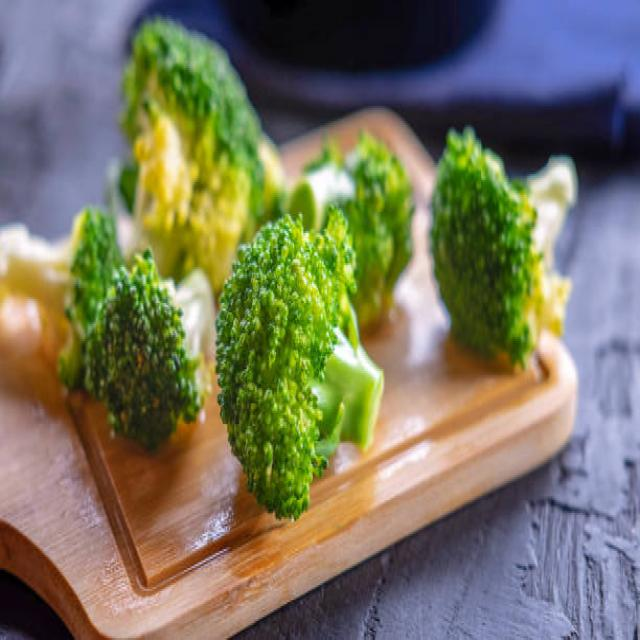Broccoli head: (228, 231, 404, 480), (441, 106, 575, 401), (42, 213, 199, 462)
